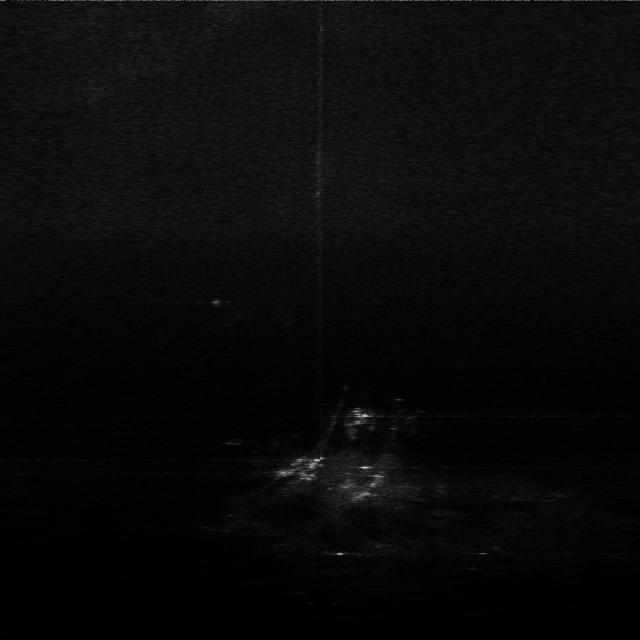rov: (349, 401, 378, 424)
